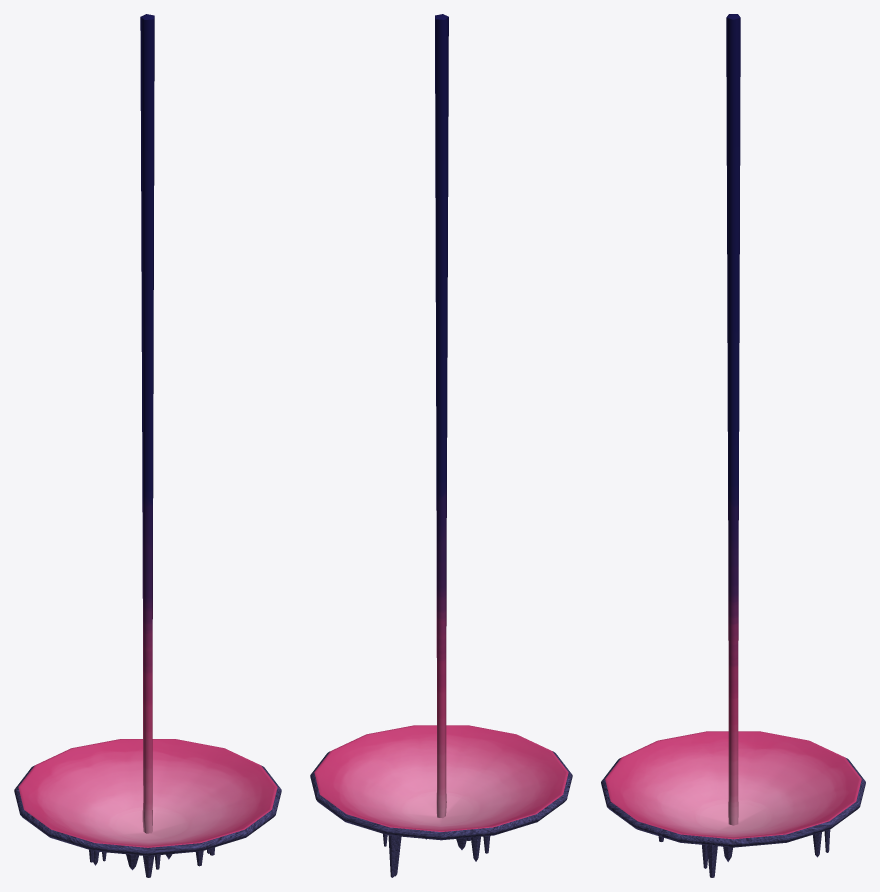
The model's file is MD_MushLight_02_02.fbx.
The picture shows the model from 3 angles, left to right: view 1: azimuth 30°, elevation 25°; view 2: azimuth 150°, elevation 25°; view 3: azimuth 270°, elevation 25°; orthographic projection.
Parts seen in each view (by area): view 1: Mushroomlight02; view 2: Mushroomlight02; view 3: Mushroomlight02.
Boxes of the visible parts, bbox=[...] form: Mushroomlight02: bbox=[14, 14, 281, 877]; Mushroomlight02: bbox=[310, 14, 572, 877]; Mushroomlight02: bbox=[601, 14, 865, 877].
Bounding box in the file's own units: 512 × 1804 × 515.
Materials: 1 (1 with a texture image).
